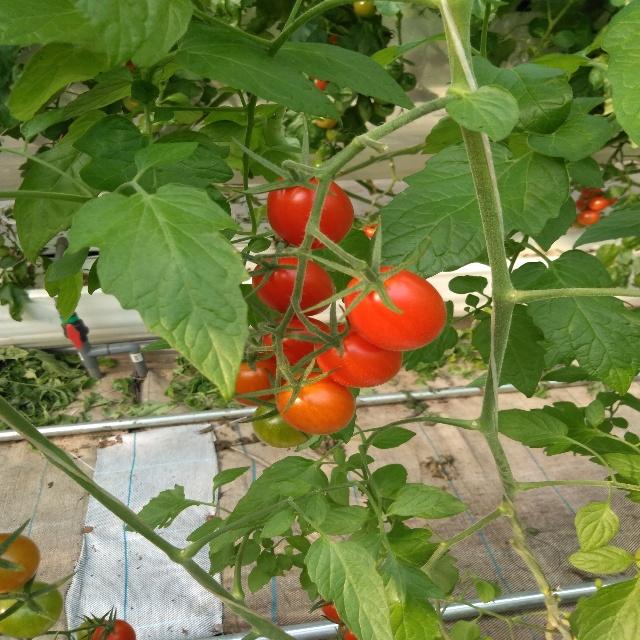l_fully_ripened: (344, 266, 447, 352), (266, 174, 355, 249), (315, 323, 402, 390), (252, 254, 335, 317), (262, 315, 329, 370), (92, 618, 136, 640)
l_green: (0, 579, 64, 639), (252, 399, 316, 449), (75, 618, 108, 640)
l_half_ripened: (276, 371, 356, 436), (233, 351, 290, 408), (0, 533, 41, 593)
